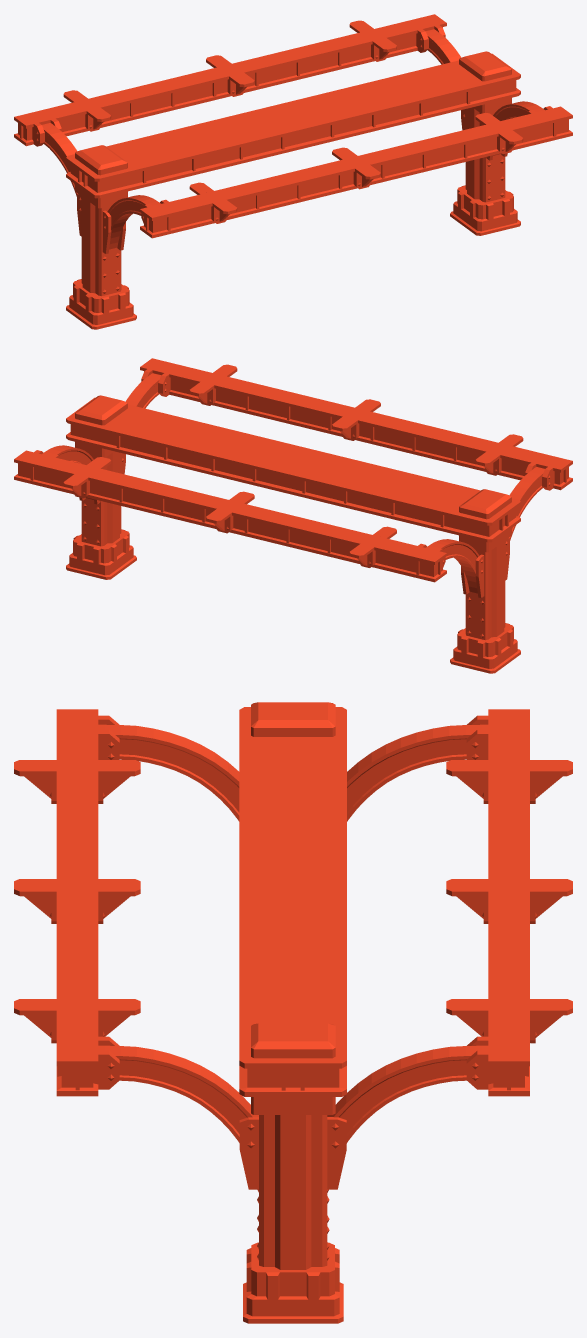
The model's file is SM_Rails_Overground_Pillar_City.fbx.
3 renders of one model, top to bottom at view 1: azimuth 30°, elevation 25°; view 2: azimuth 150°, elevation 25°; view 3: azimuth 270°, elevation 25°, orthographic. The views are drawn at different scales.
Parts seen in each view (by area): view 1: SM_Rails_Overground_Pillar_City; view 2: SM_Rails_Overground_Pillar_City; view 3: SM_Rails_Overground_Pillar_City.
Boxes of the visible parts, bbox=[...] form: SM_Rails_Overground_Pillar_City: bbox=[14, 14, 572, 329]; SM_Rails_Overground_Pillar_City: bbox=[14, 358, 572, 673]; SM_Rails_Overground_Pillar_City: bbox=[14, 702, 572, 1323].
Bounding box in the file's own units: 17.38 × 6.16 × 11.44.
